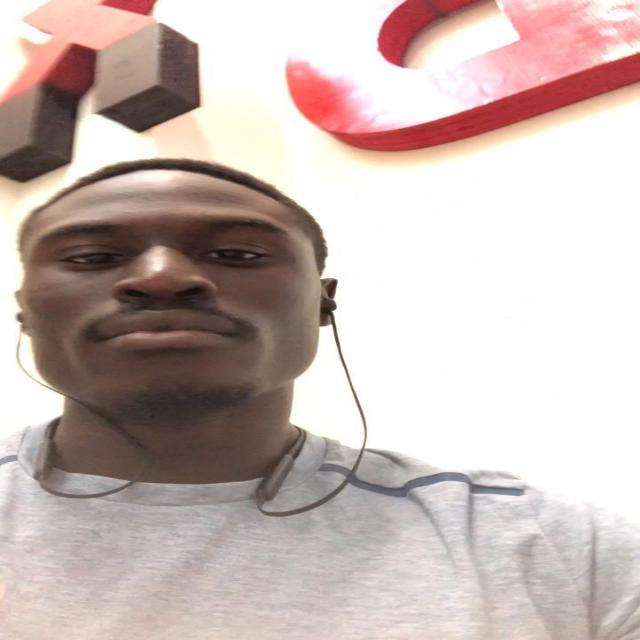face: (19, 192, 327, 420)
